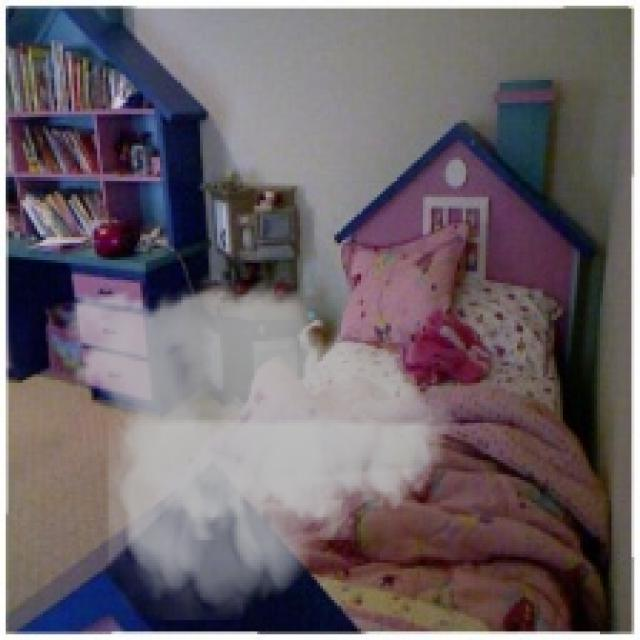smoke: (43, 269, 468, 620)
